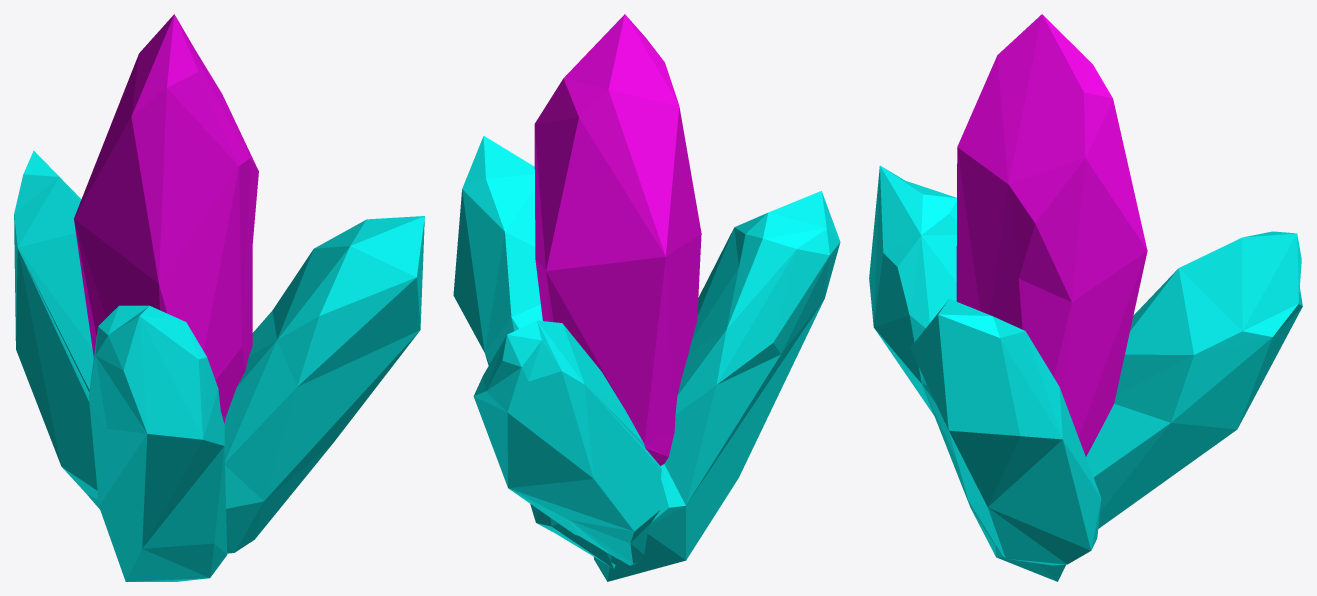
The model's file is CrystalCluster_5.fbx.
3 views of the same model, side by side, from view 1: azimuth 30°, elevation 25°; view 2: azimuth 150°, elevation 25°; view 3: azimuth 270°, elevation 25° (orthographic). The views are drawn at different scales.
Parts seen in each view (by area): view 1: CrystalCluster_6; view 2: CrystalCluster_6; view 3: CrystalCluster_6.
Part boxes in pixels (x1,y1,x2,y2): CrystalCluster_6: (14, 14, 424, 581); CrystalCluster_6: (453, 14, 840, 581); CrystalCluster_6: (869, 14, 1302, 581).
Size of the model in its own units: 97.56 by 157 by 109.
